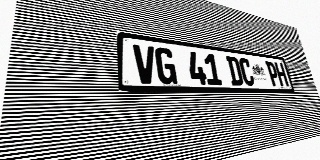1: (203, 53, 222, 85)
4: (187, 51, 208, 85)
C: (238, 57, 256, 86)
D: (226, 56, 244, 86)
G: (154, 47, 178, 84)
H: (274, 62, 289, 87)
P: (265, 61, 281, 86)
V: (133, 44, 157, 84)
